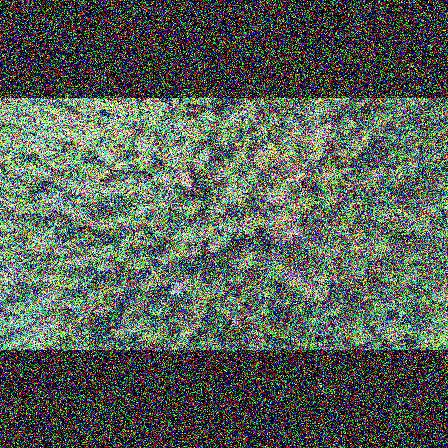Dead: (304, 122, 334, 153), (269, 221, 302, 248), (303, 276, 330, 306), (278, 258, 304, 288), (166, 277, 191, 301), (178, 172, 196, 192), (206, 241, 221, 257), (190, 244, 204, 258)
